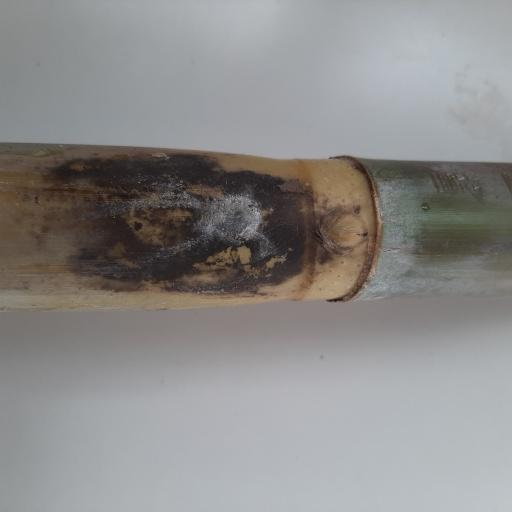Bud: (322, 212, 370, 250)
